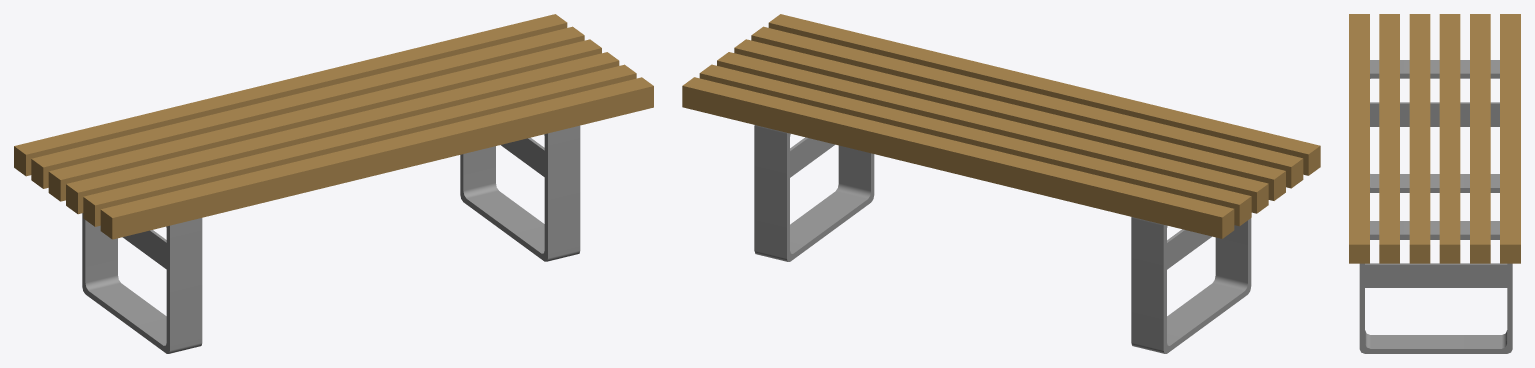
File: Bench.fbx
3 views of the same model, side by side, from view 1: azimuth 30°, elevation 25°; view 2: azimuth 150°, elevation 25°; view 3: azimuth 270°, elevation 25° (orthographic). The views are drawn at different scales.
Visible parts, largest first — view 1: Bench; view 2: Bench; view 3: Bench.
Part boxes in pixels (x1=…): Bench: x1=14, y1=14, x2=653, y2=353; Bench: x1=682, y1=14, x2=1320, y2=353; Bench: x1=1349, y1=14, x2=1520, y2=353.
Bounding box in the file's own units: 191 × 53.34 × 60.15.
